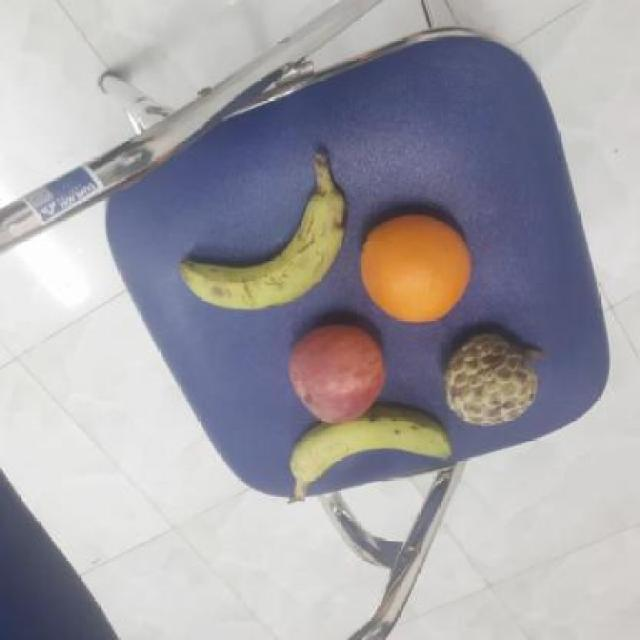apple: (279, 318, 390, 425)
banana: (176, 188, 352, 315), (282, 409, 453, 500)
oren: (359, 211, 473, 325)
sugar apple: (438, 327, 544, 425)
